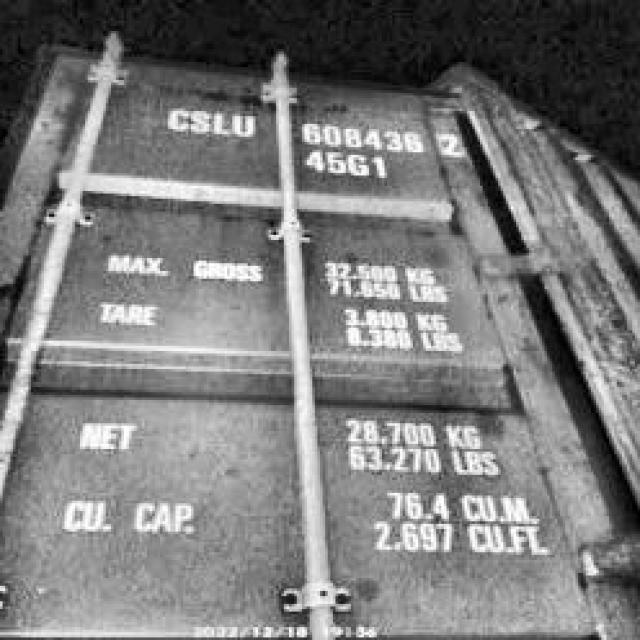ISO: (300, 149, 394, 189)
container_number: (164, 95, 468, 158)
